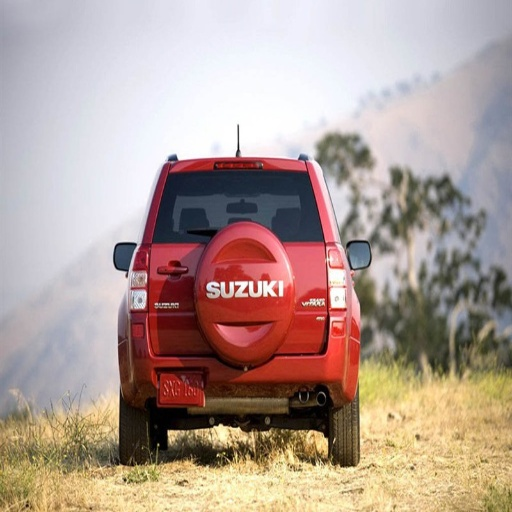back_bumper: (131, 312, 358, 411)
tailgate: (196, 273, 324, 366)
trunk: (151, 196, 323, 353)
